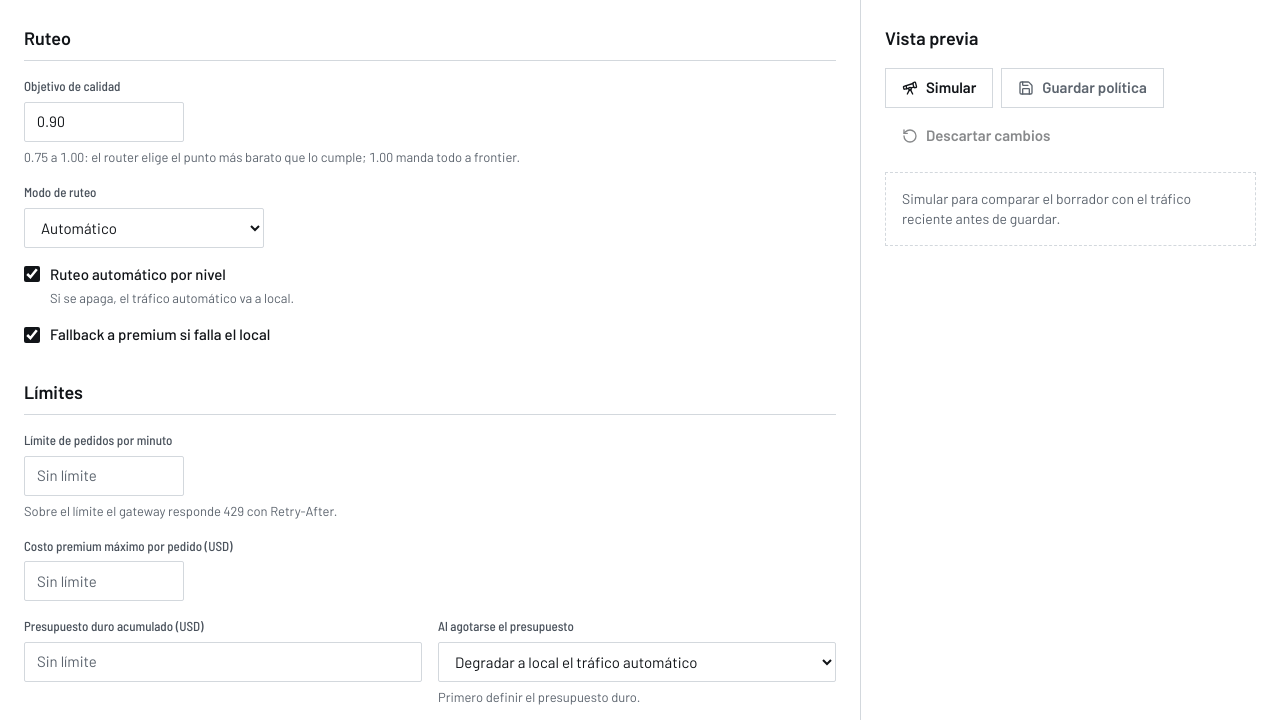
policy-form › does not count retyping a number the same way as a change
Replace the text in the field labelled "Objetivo de calidad" with "0.9" at (104, 122), box [24,102,184,142]
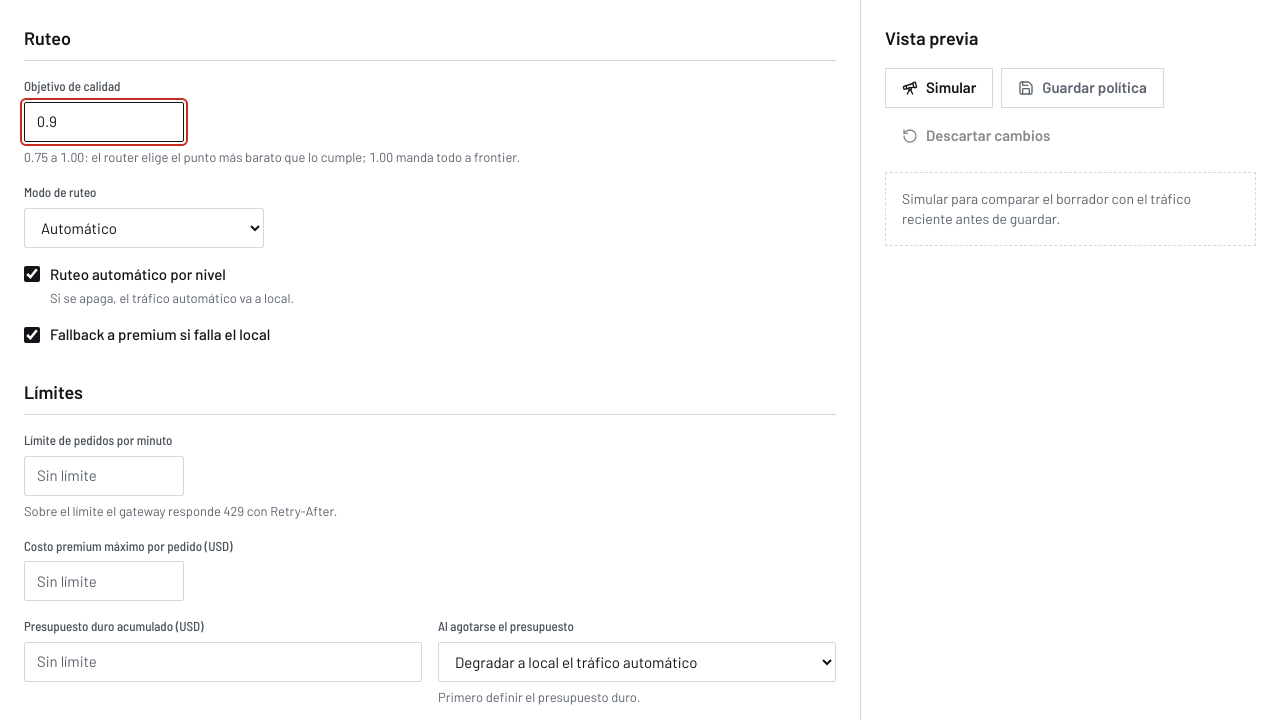
Expected: the text "Cambios sin guardar" is not shown
Expected: the button "Guardar política" is disabled, [1001,68,1164,108]
Type "1" into the field labelled "Objetivo de calidad" at (104, 122), box [24,102,184,142]
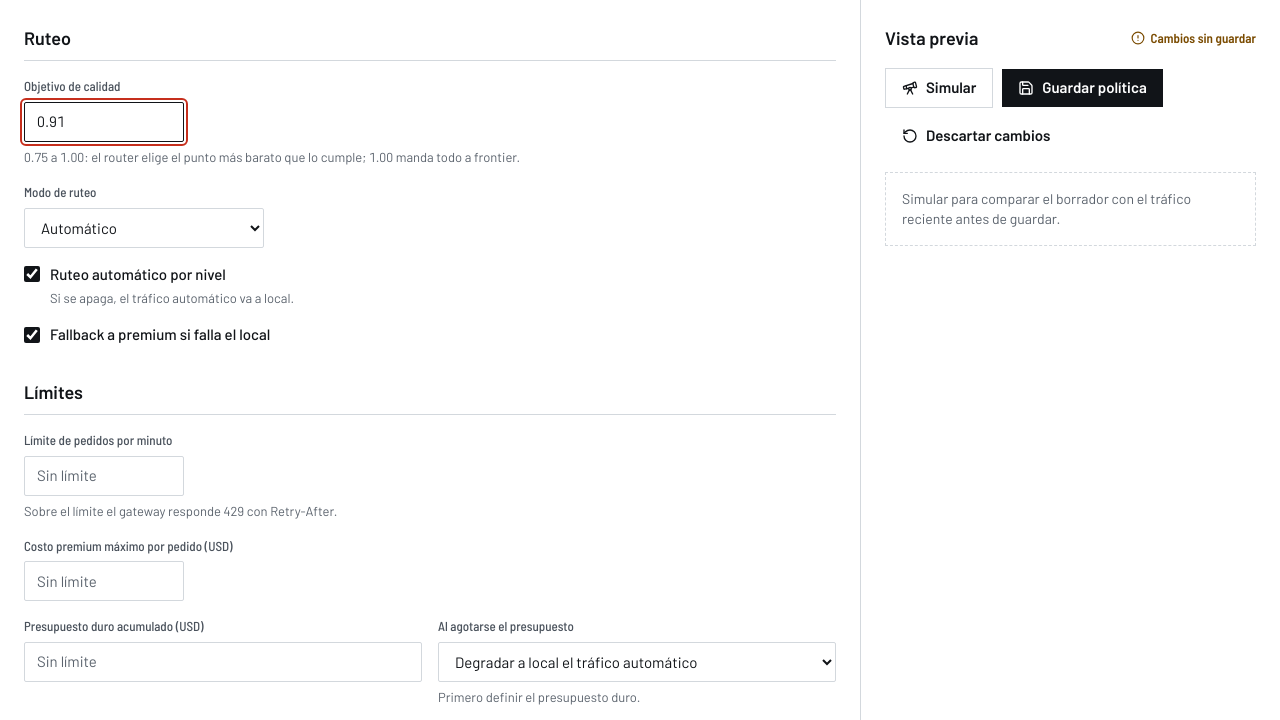
Expected: the text "Cambios sin guardar" is shown, [1131,29,1256,47]
Expected: the button "Guardar política" is enabled, [1001,68,1164,108]
